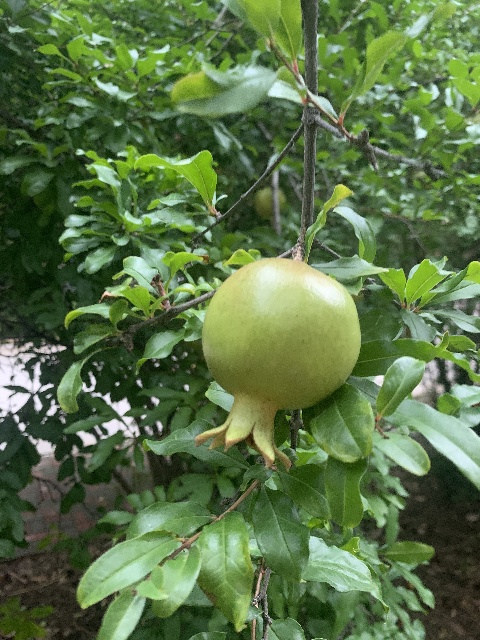mid-growth: (194, 257, 361, 470)
